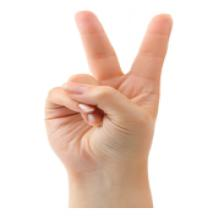two: (46, 8, 176, 196)
